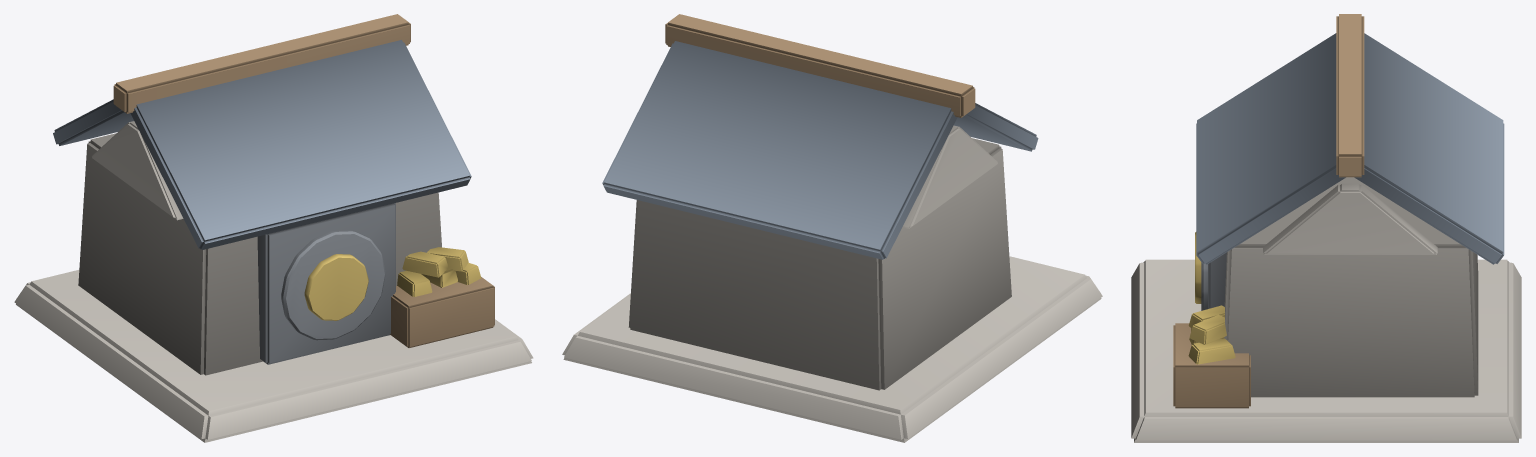
File: gold_mine_vault_lod0.glb
3 renders of one model, left to right at view 1: azimuth 30°, elevation 25°; view 2: azimuth 150°, elevation 25°; view 3: azimuth 270°, elevation 25°, orthographic. The views are drawn at different scales.
Visible parts, largest first — view 1: gold_mine_vault; view 2: gold_mine_vault; view 3: gold_mine_vault.
Part boxes in pixels (x1,y1,x2,y2): gold_mine_vault: [14, 14, 533, 442]; gold_mine_vault: [562, 14, 1102, 442]; gold_mine_vault: [1131, 14, 1521, 442].
Bounding box in the file's own units: 3.62 × 2.84 × 3.62.
